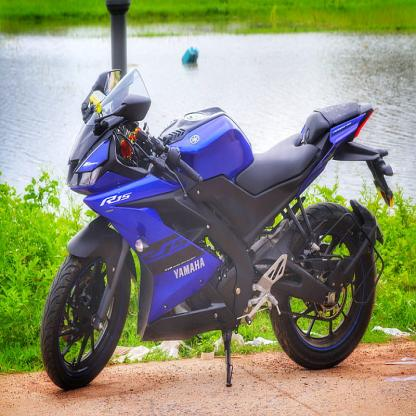bike: (43, 67, 388, 375)
